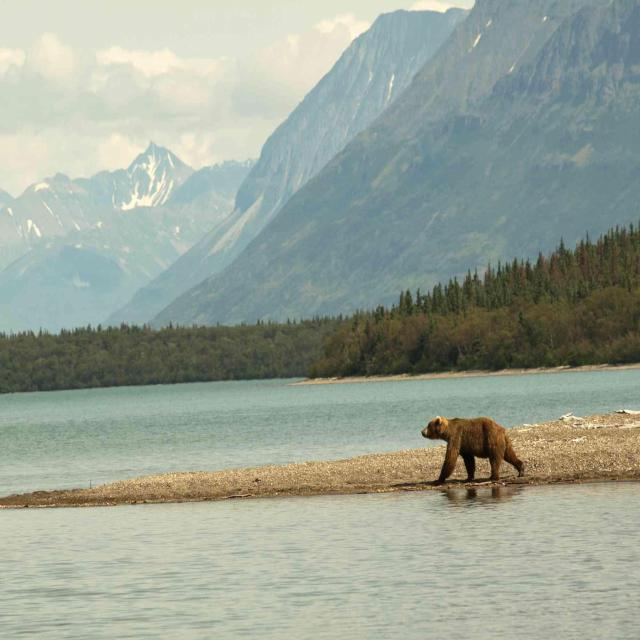Bear: (423, 418, 523, 500)
